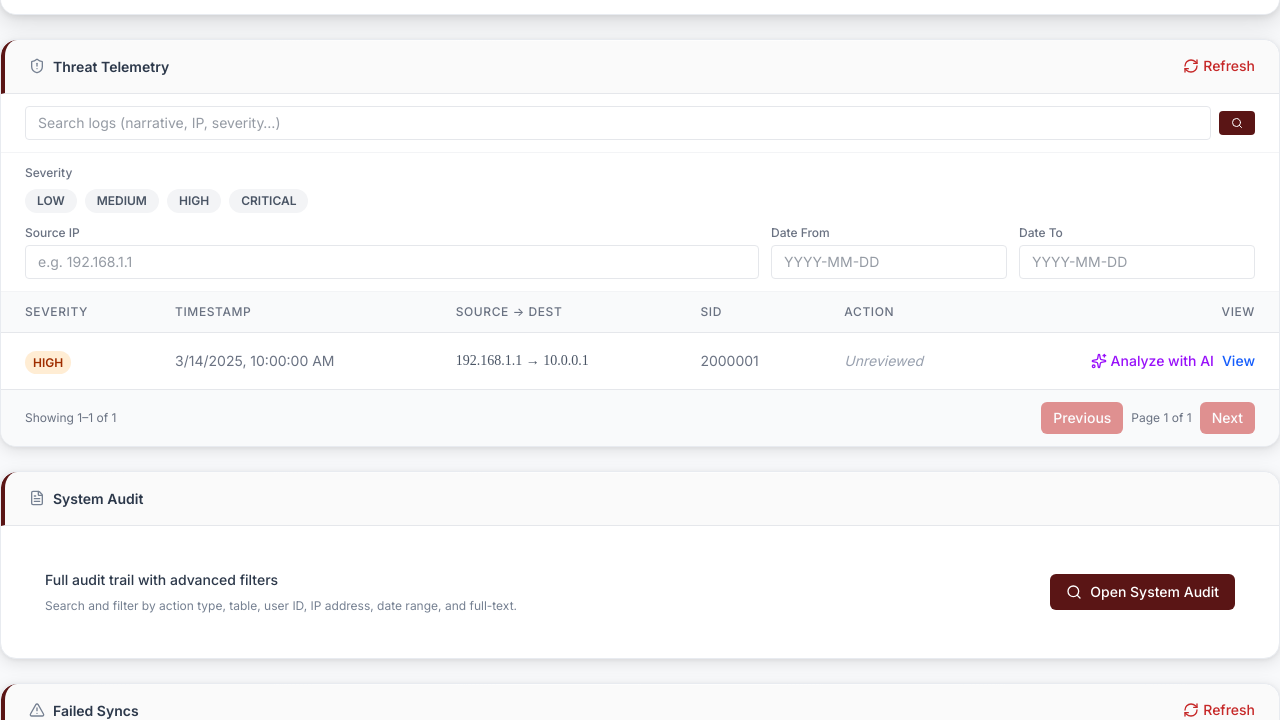
Scenario: Admin System — Analyze with AI in Threat Telemetry › treats 409 AI inference conflict as background analysis in progress
The width and height of the screenshot is (1280, 720).
(page scrolled)
Expected: the text "Threat Telemetry" is shown, [53,56,169,76]
Click the button "View" at (1238,360), box [1222,350,1255,370]
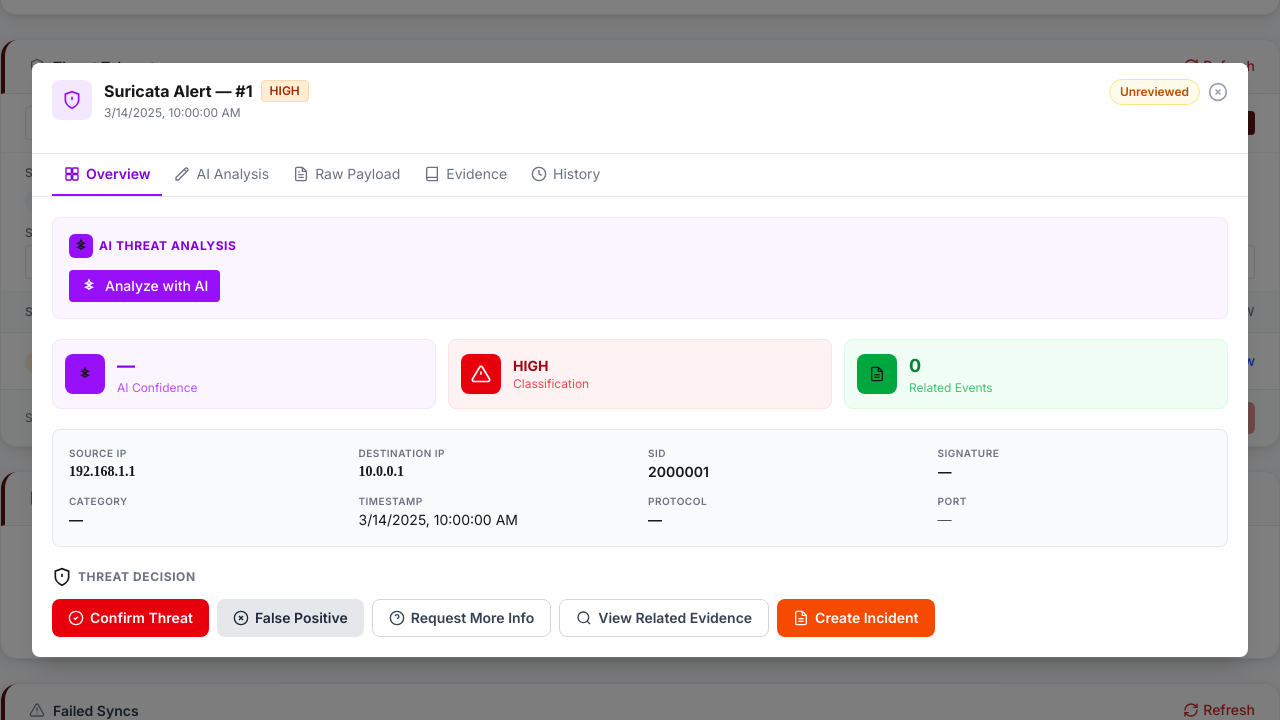
Expected: the heading "Suricata Alert — #1" is shown, [104,79,253,103]
Click the button "Analyze with AI" at (145,286), box [69,270,220,302]
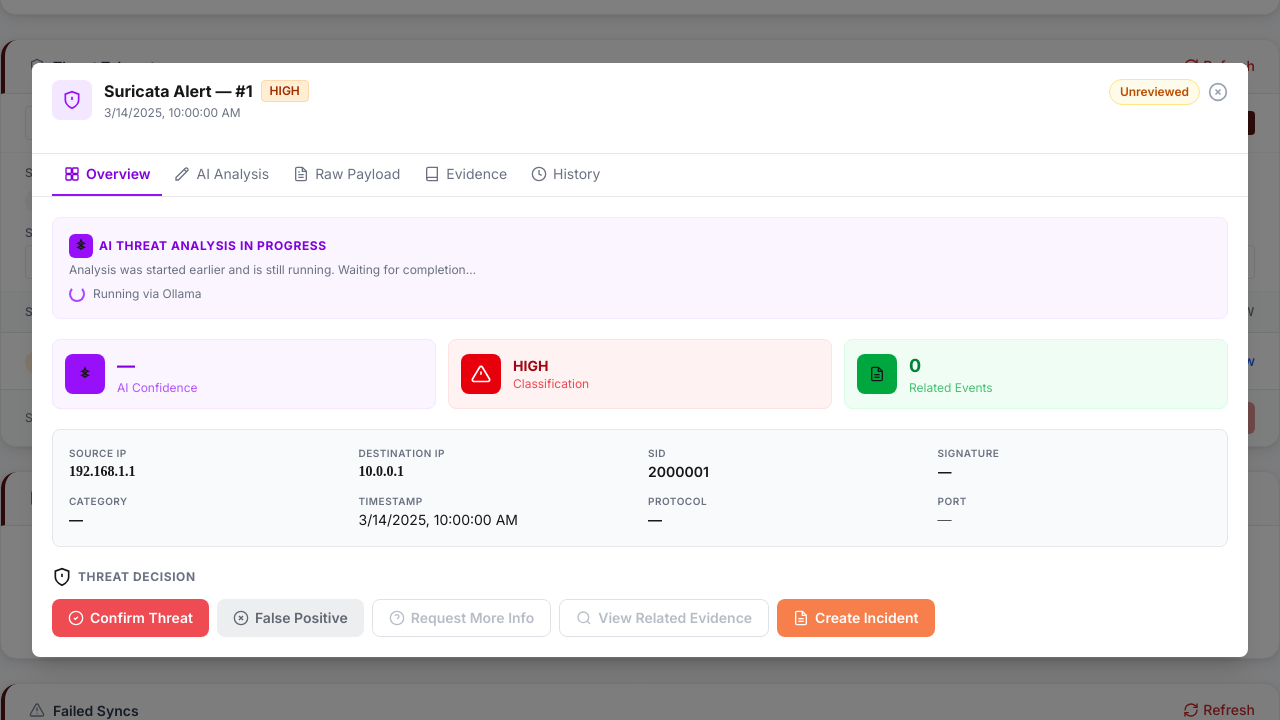
Expected: the heading "AI Threat Analysis in Progress" is shown, [99,238,327,254]
